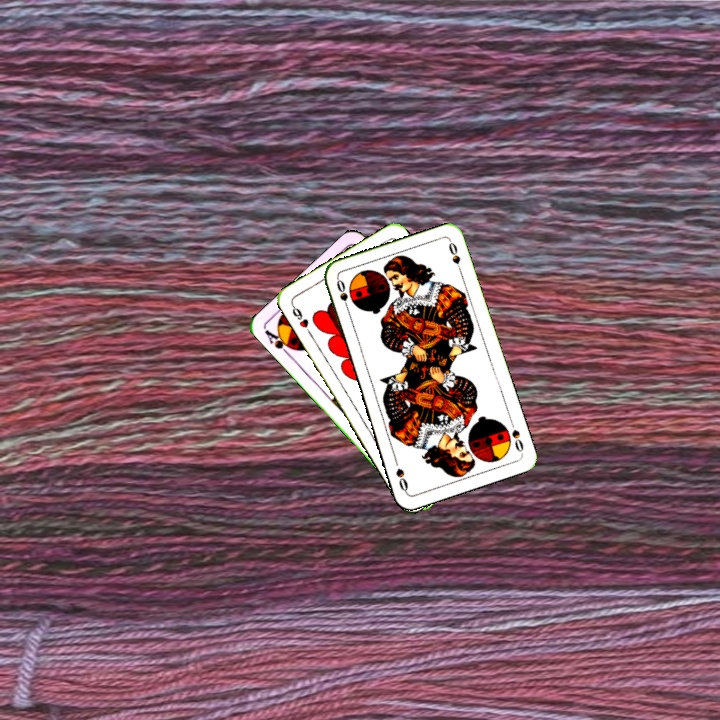H9: (287, 300, 313, 337)
SA: (261, 325, 297, 359)
SO: (332, 275, 352, 315), (506, 416, 526, 456)
